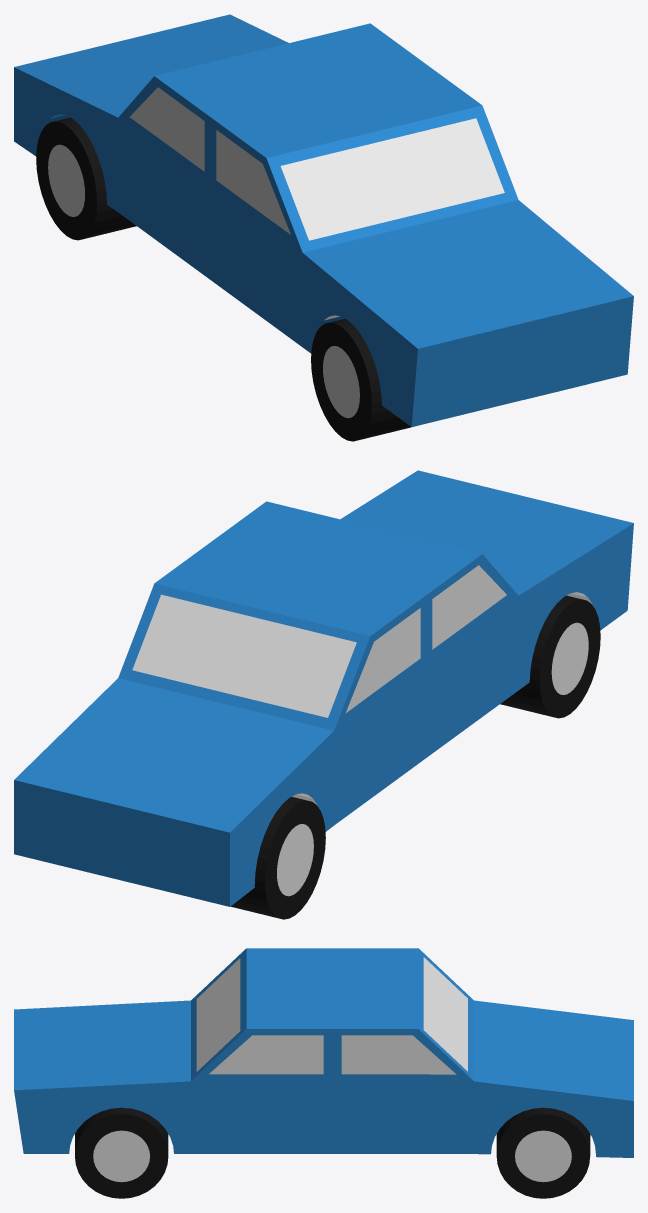
File: car.fbx
The picture shows the model from 3 angles, top to bottom: view 1: azimuth 30°, elevation 25°; view 2: azimuth 150°, elevation 25°; view 3: azimuth 270°, elevation 25°; orthographic projection. The views are drawn at different scales.
Visible parts, largest first — view 1: Cube, Cylinder.001; view 2: Cube, Cylinder.001; view 3: Cube, Cylinder.001.
Boxes of the visible parts, x1=… form: Cube: x1=14, y1=14, x2=633, y2=426; Cylinder.001: x1=36, y1=117, x2=411, y2=441; Cube: x1=14, y1=470, x2=633, y2=906; Cylinder.001: x1=231, y1=595, x2=600, y2=919; Cube: x1=14, y1=948, x2=633, y2=1157; Cylinder.001: x1=75, y1=1107, x2=590, y2=1198.
Size of the model in its own units: 362 by 329 by 1106.
